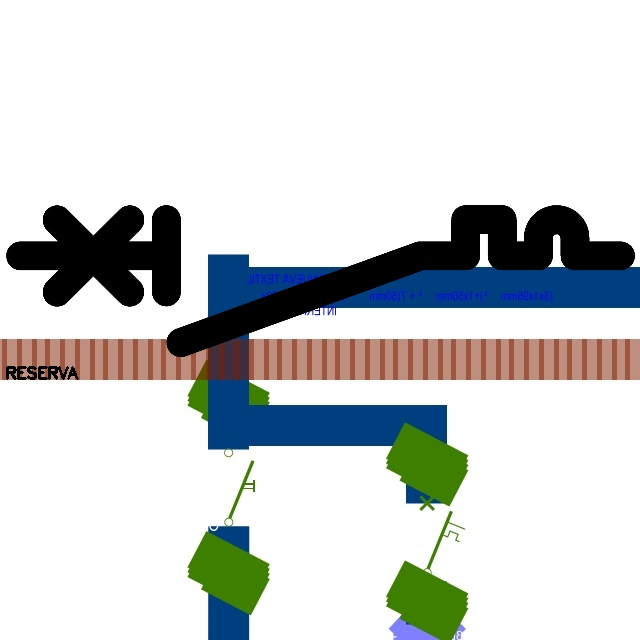interruptor_termomagnetico: (5, 204, 636, 358)
